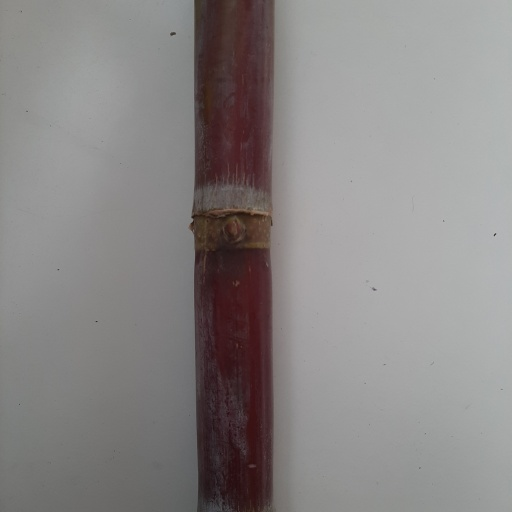Bud: (220, 214, 246, 246)
